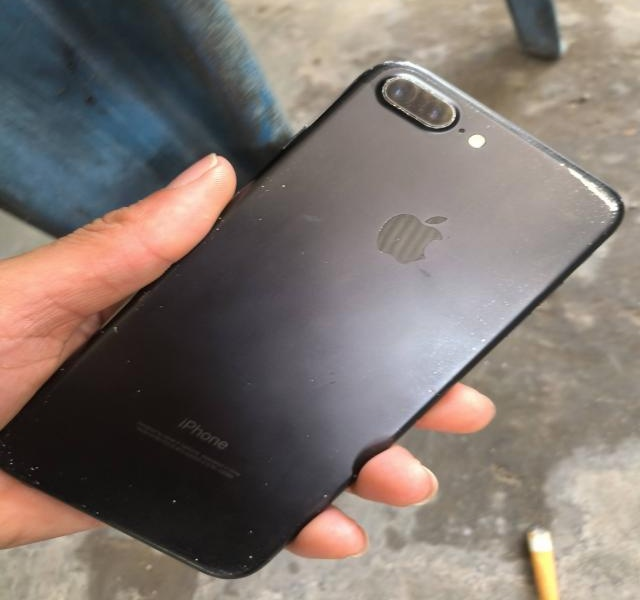scratch: (382, 75, 457, 131), (569, 167, 619, 226), (378, 58, 420, 70), (206, 565, 240, 574), (429, 360, 448, 375), (462, 102, 481, 113), (477, 314, 490, 327), (484, 298, 496, 308), (303, 374, 315, 384), (454, 315, 464, 325), (330, 446, 341, 454), (484, 122, 496, 129), (478, 334, 489, 341), (501, 299, 512, 306), (261, 481, 272, 488), (7, 458, 14, 469), (130, 387, 141, 394), (77, 500, 86, 508), (497, 283, 507, 290), (425, 386, 435, 393), (560, 158, 566, 169), (304, 430, 311, 439), (386, 217, 395, 224), (32, 478, 40, 485), (111, 325, 119, 332), (582, 242, 593, 247), (173, 272, 183, 277), (218, 215, 225, 222), (208, 233, 215, 240), (470, 345, 478, 351), (322, 491, 328, 499), (469, 328, 475, 335), (247, 553, 254, 559), (244, 380, 252, 385), (126, 357, 132, 363), (499, 314, 506, 319), (0, 442, 7, 447), (42, 398, 49, 403), (241, 565, 248, 569), (4, 431, 9, 436)
